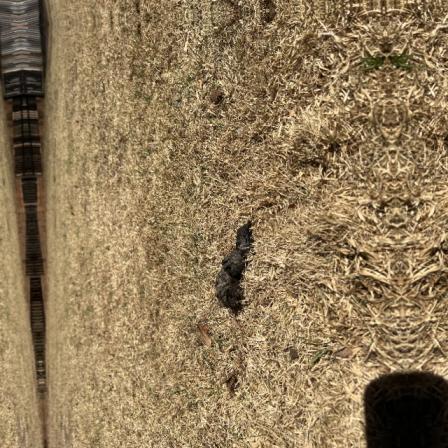dog-poop: (197, 218, 264, 306)
